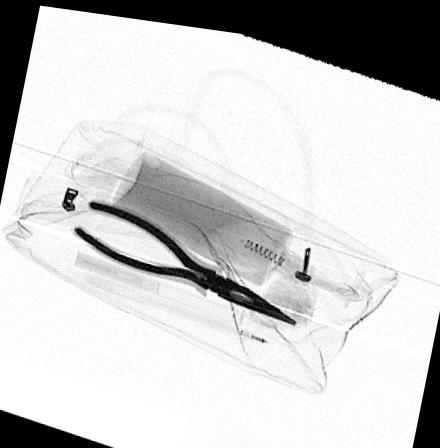Pliers: (71, 196, 299, 319)
